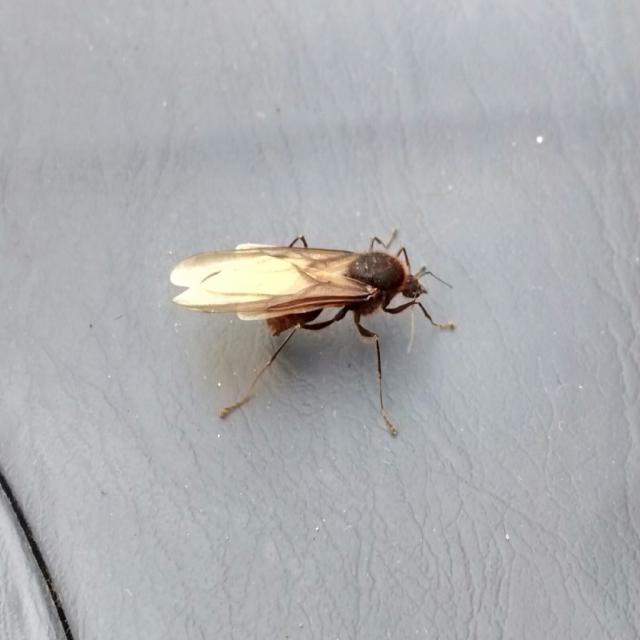Alive-Male-Alate: (169, 227, 458, 438)
